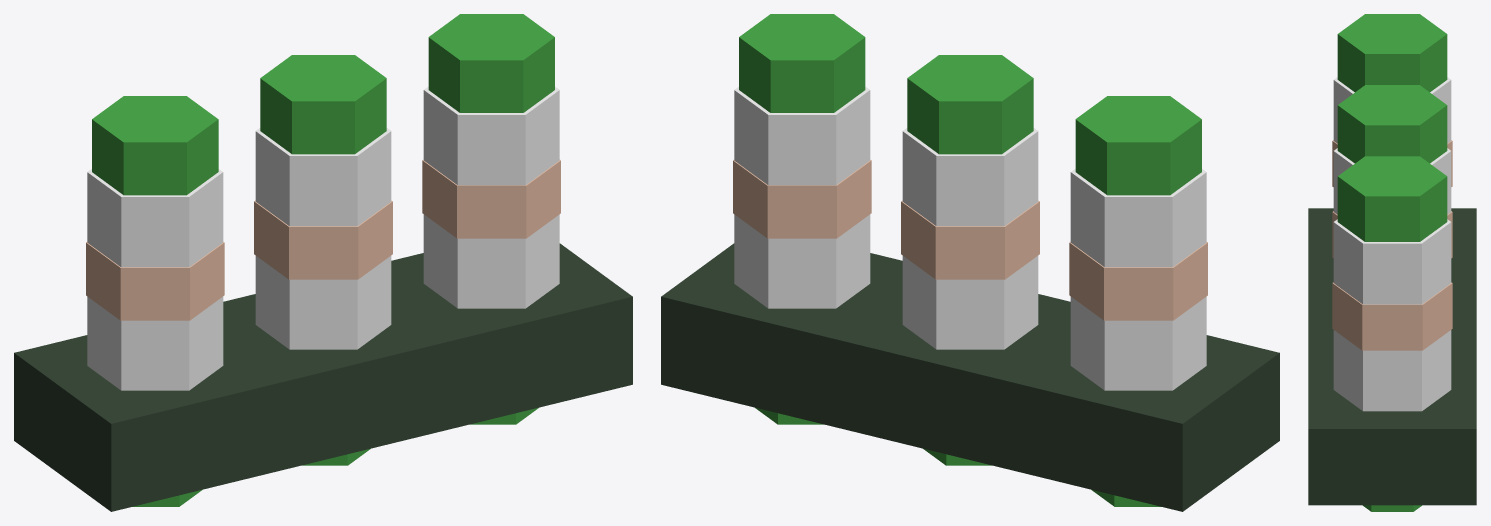
File: ce_ammo2_fuel30_foam_b.obj
3 views of the same model, side by side, from view 1: azimuth 30°, elevation 25°; view 2: azimuth 150°, elevation 25°; view 3: azimuth 270°, elevation 25° (orthographic). The views are drawn at different scales.
Visible parts, largest first — view 1: ce_ammo2_fuel30_foam_b_3, ce_ammo2_fuel30_foam_b_11, ce_ammo2_fuel30_foam_b_7, ce_ammo2_fuel30_foam_b_15, ce_ammo2_fuel30_foam_b_10, ce_ammo2_fuel30_foam_b_6, ce_ammo2_fuel30_foam_b_14, ce_ammo2_fuel30_foam_b_4, ce_ammo2_fuel30_foam_b_12, ce_ammo2_fuel30_foam_b_8, ce_ammo2_fuel30_foam_b_9, ce_ammo2_fuel30_foam_b_13 (+1 smaller); view 2: ce_ammo2_fuel30_foam_b_3, ce_ammo2_fuel30_foam_b_7, ce_ammo2_fuel30_foam_b_11, ce_ammo2_fuel30_foam_b_15, ce_ammo2_fuel30_foam_b_10, ce_ammo2_fuel30_foam_b_6, ce_ammo2_fuel30_foam_b_14, ce_ammo2_fuel30_foam_b_4, ce_ammo2_fuel30_foam_b_8, ce_ammo2_fuel30_foam_b_12, ce_ammo2_fuel30_foam_b_9, ce_ammo2_fuel30_foam_b_5 (+1 smaller); view 3: ce_ammo2_fuel30_foam_b_3, ce_ammo2_fuel30_foam_b_15, ce_ammo2_fuel30_foam_b_14, ce_ammo2_fuel30_foam_b_11, ce_ammo2_fuel30_foam_b_7, ce_ammo2_fuel30_foam_b_12, ce_ammo2_fuel30_foam_b_13, ce_ammo2_fuel30_foam_b_10, ce_ammo2_fuel30_foam_b_6, ce_ammo2_fuel30_foam_b_2, ce_ammo2_fuel30_foam_b_9, ce_ammo2_fuel30_foam_b_5.
Boxes of the visible parts, x1,y1,x2,y2 form: ce_ammo2_fuel30_foam_b_3: [14, 243, 632, 511]; ce_ammo2_fuel30_foam_b_11: [260, 55, 386, 154]; ce_ammo2_fuel30_foam_b_7: [92, 96, 218, 195]; ce_ammo2_fuel30_foam_b_15: [428, 14, 554, 112]; ce_ammo2_fuel30_foam_b_10: [255, 128, 391, 226]; ce_ammo2_fuel30_foam_b_6: [87, 169, 223, 267]; ce_ammo2_fuel30_foam_b_14: [423, 86, 559, 185]; ce_ammo2_fuel30_foam_b_4: [87, 296, 223, 390]; ce_ammo2_fuel30_foam_b_12: [423, 214, 559, 308]; ce_ammo2_fuel30_foam_b_8: [255, 256, 391, 349]; ce_ammo2_fuel30_foam_b_9: [254, 200, 392, 279]; ce_ammo2_fuel30_foam_b_13: [422, 159, 560, 238]; ce_ammo2_fuel30_foam_b_3: [661, 243, 1279, 511]; ce_ammo2_fuel30_foam_b_7: [1075, 96, 1201, 195]; ce_ammo2_fuel30_foam_b_11: [907, 55, 1033, 154]; ce_ammo2_fuel30_foam_b_15: [739, 14, 865, 112]; ce_ammo2_fuel30_foam_b_10: [902, 128, 1038, 226]; ce_ammo2_fuel30_foam_b_6: [1070, 169, 1206, 267]; ce_ammo2_fuel30_foam_b_14: [734, 86, 870, 185]; ce_ammo2_fuel30_foam_b_4: [1070, 296, 1206, 390]; ce_ammo2_fuel30_foam_b_8: [902, 256, 1038, 349]; ce_ammo2_fuel30_foam_b_12: [734, 214, 870, 308]; ce_ammo2_fuel30_foam_b_9: [901, 200, 1039, 279]; ce_ammo2_fuel30_foam_b_5: [1069, 242, 1207, 320]; ce_ammo2_fuel30_foam_b_3: [1308, 208, 1476, 505]; ce_ammo2_fuel30_foam_b_15: [1337, 156, 1447, 241]; ce_ammo2_fuel30_foam_b_14: [1333, 219, 1451, 304]; ce_ammo2_fuel30_foam_b_11: [1337, 85, 1447, 163]; ce_ammo2_fuel30_foam_b_7: [1337, 14, 1447, 92]; ce_ammo2_fuel30_foam_b_12: [1333, 330, 1451, 411]; ce_ammo2_fuel30_foam_b_13: [1332, 282, 1452, 350]; ce_ammo2_fuel30_foam_b_10: [1333, 148, 1451, 214]; ce_ammo2_fuel30_foam_b_6: [1333, 77, 1451, 143]; ce_ammo2_fuel30_foam_b_2: [1363, 505, 1421, 511]; ce_ammo2_fuel30_foam_b_9: [1332, 211, 1452, 258]; ce_ammo2_fuel30_foam_b_5: [1332, 140, 1452, 186].
Bounding box in the file's own units: 0.62 × 0.42 × 0.2.
